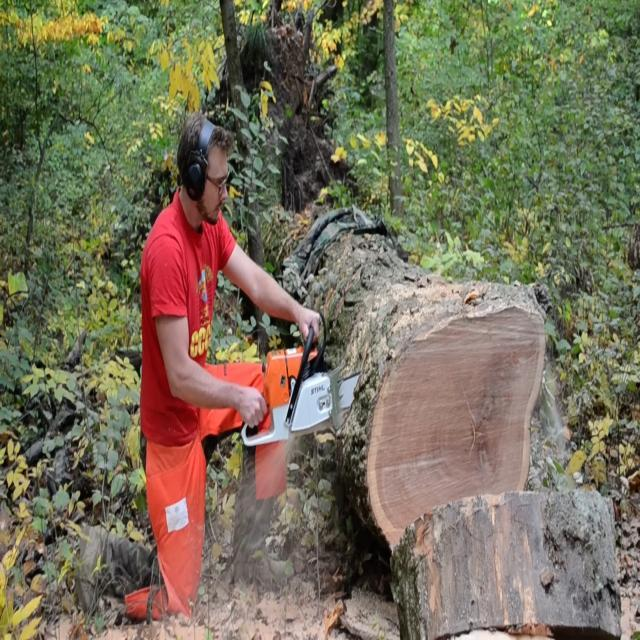Chainsaw: (235, 323, 392, 468)
